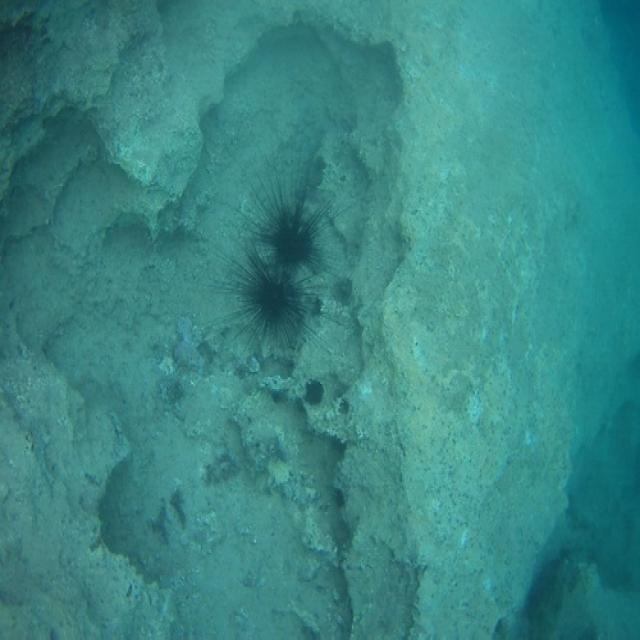Urchin: (221, 147, 352, 275), (210, 234, 334, 357)
